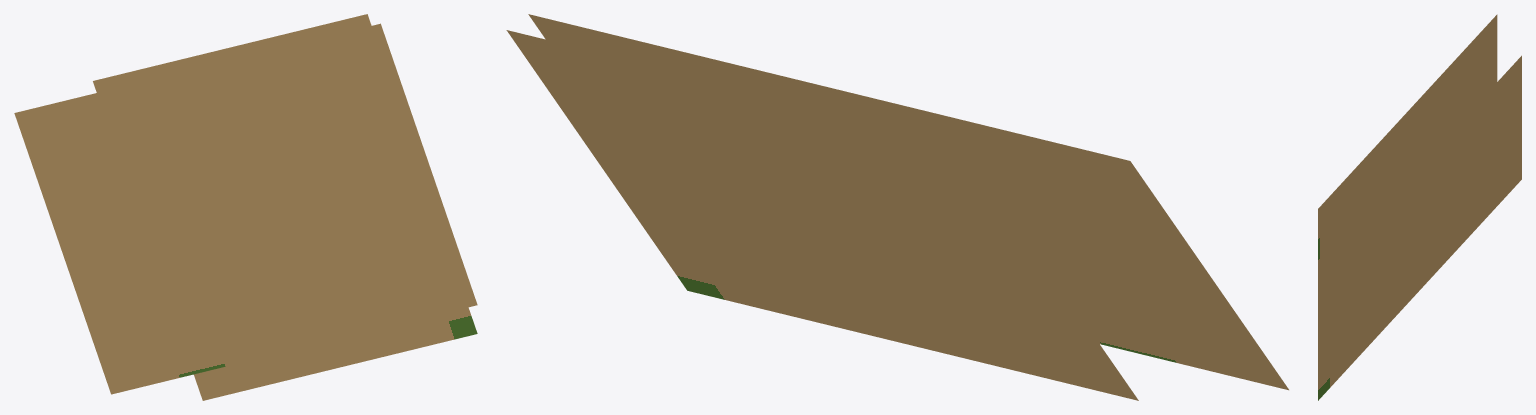
3 views of the same model, side by side, from view 1: azimuth 30°, elevation 25°; view 2: azimuth 150°, elevation 25°; view 3: azimuth 270°, elevation 25° (orthographic). The views are drawn at different scales.
Bounding box in the file's own units: 1 × 0.624 × 0.5205.
Materials: 1 (1 with a texture image).
